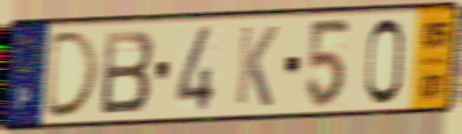0: (363, 15, 407, 108)
4: (173, 22, 218, 116)
5: (303, 14, 354, 112)
B: (98, 27, 157, 117)
D: (42, 27, 103, 121)
K: (232, 23, 280, 110)
